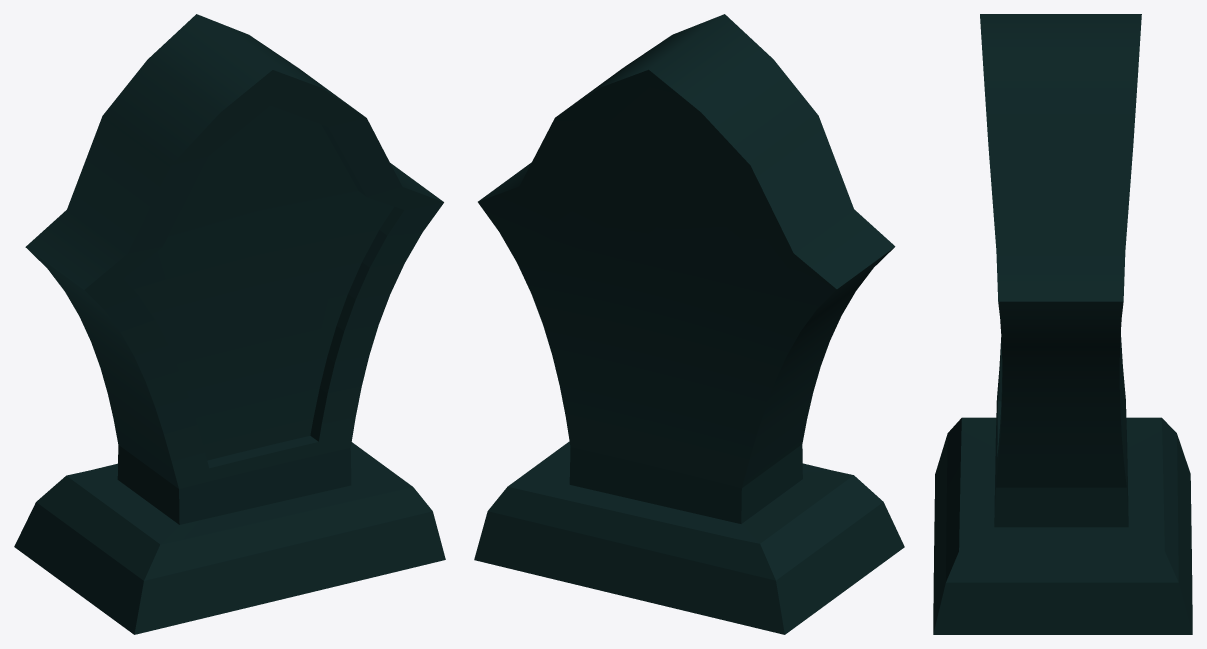
File: gravestone_02_stone_0_lev1.glb
3 views of the same model, side by side, from view 1: azimuth 30°, elevation 25°; view 2: azimuth 150°, elevation 25°; view 3: azimuth 270°, elevation 25° (orthographic). The views are drawn at different scales.
Visible parts, largest first — view 1: gravestone_02_stone_0_lev1; view 2: gravestone_02_stone_0_lev1; view 3: gravestone_02_stone_0_lev1.
Boxes of the visible parts, box(x1,y1,x2,y2) form: gravestone_02_stone_0_lev1: box(14, 14, 445, 634); gravestone_02_stone_0_lev1: box(474, 14, 904, 634); gravestone_02_stone_0_lev1: box(933, 14, 1192, 634).
Size of the model in its own units: 0.4119 by 0.5585 by 0.2421.
